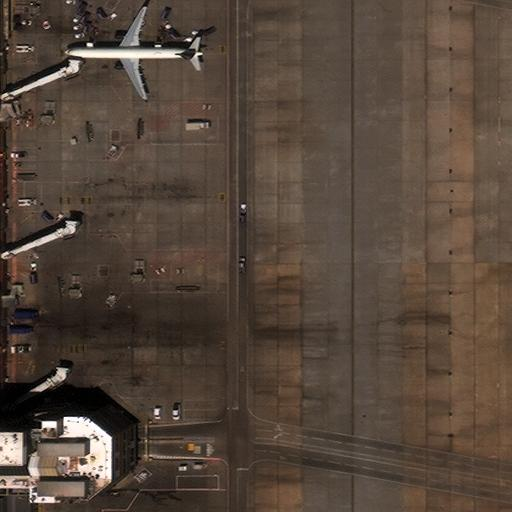Medium Civil Transport: (64, 6, 202, 99)
